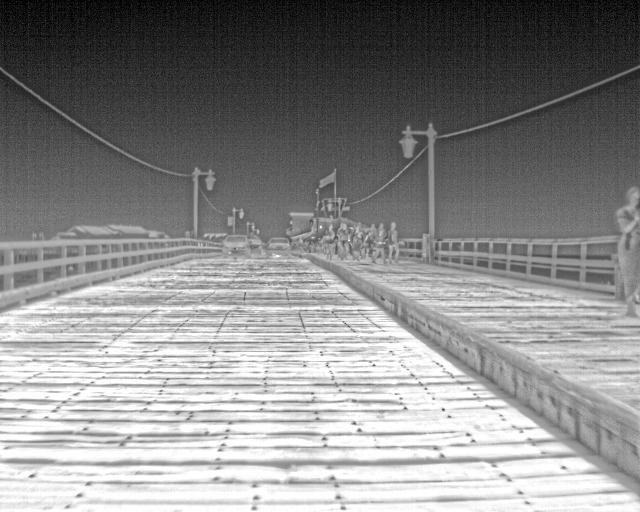bicycle: (221, 235, 251, 256), (265, 237, 293, 256), (245, 236, 263, 255)
empty: (612, 188, 639, 317), (384, 219, 403, 263), (366, 222, 381, 264), (333, 220, 350, 257), (321, 228, 334, 262)
